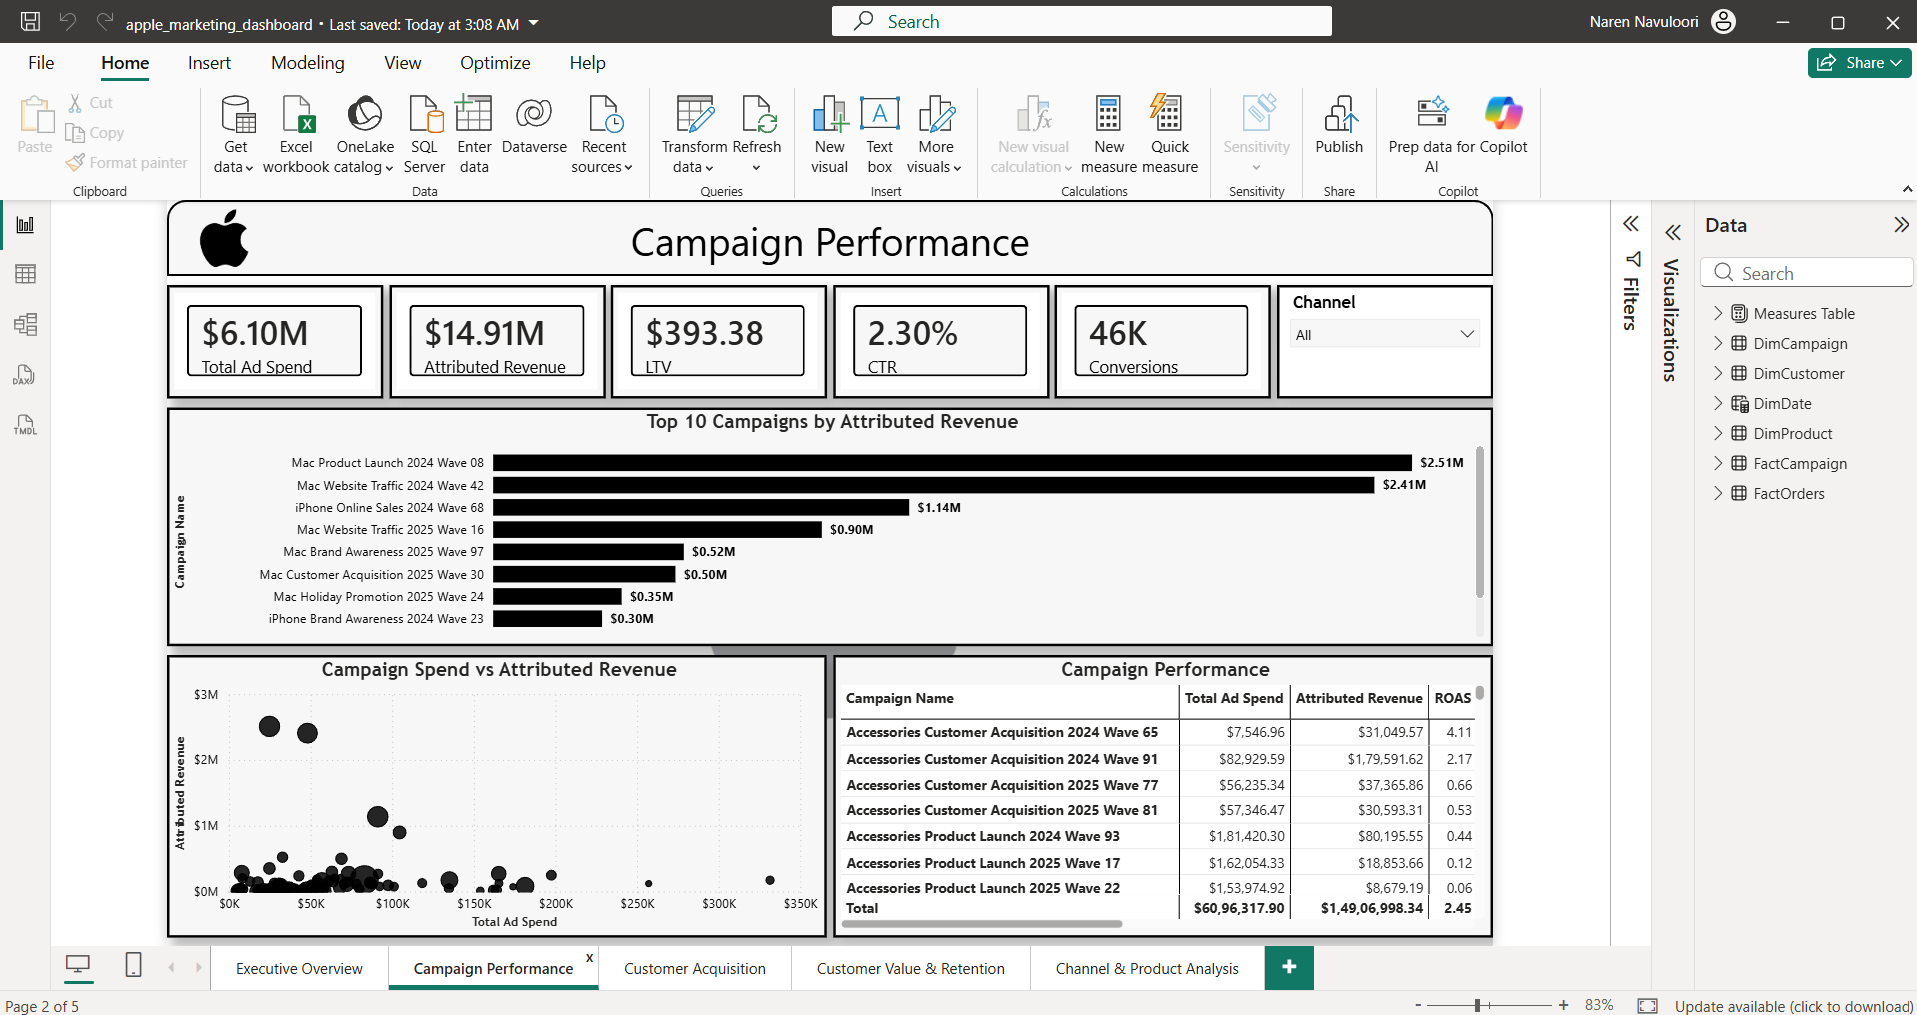

Layout of this report page (visuals, bound fields, positions):
{"tool":"powerbi","page":{"name":"Campaign Performance","canvas":[1280,720],"ordinal":1},"visuals":[{"type":"shape","box":[0,0,1280.3,73.4],"z":0},{"type":"image","box":[18.3,6.1,74.6,61.1],"z":1000},{"type":"cardVisual","fields":{"Data":["Measures Table.Total Ad Spend"]},"box":[0,82,209,109.8],"z":2000},{"type":"cardVisual","fields":{"Data":["Measures Table.Attributed Revenue"]},"box":[214.4,82,209,109.8],"z":3000},{"type":"cardVisual","fields":{"Data":["Measures Table.LTV"]},"box":[428.9,82,208.7,109.8],"z":4000},{"type":"cardVisual","fields":{"Data":["Measures Table.CTR"]},"box":[643,82,208.7,109.8],"z":5000},{"type":"cardVisual","fields":{"Data":["Measures Table.Conversions"]},"box":[857.2,82,208.7,109.8],"z":6000},{"type":"slicer","fields":{"Values":["FactCampaign.channel"]},"box":[1071.3,82,208.7,109.8],"z":7000},{"type":"clusteredBarChart","title":"Top 10 Campaigns by Attributed Revenue","fields":{"Y":["Measures Table.Attributed Revenue"],"Category":["FactCampaign.campaign_name"]},"box":[0,200.3,1280,230.4],"z":8000},{"type":"scatterChart","title":"Campaign Spend vs Attributed Revenue","fields":{"X":["Measures Table.Total Ad Spend"],"Y":["Measures Table.Attributed Revenue"],"Size":["Measures Table.Conversions"],"Category":["FactCampaign.campaign_name"]},"box":[0,439.1,637,272.7],"z":9000},{"type":"pivotTable","title":"Campaign Performance","fields":{"Rows":["FactCampaign.campaign_name"],"Values":["Measures Table.Total Ad Spend","Measures Table.Attributed Revenue","Measures Table.ROAS","Measures Table.CTR","Measures Table.CPC","Measures Table.CPA","Measures Table.Conversions"]},"box":[643,439.1,637,272.7],"z":10000}]}

Visuals, with their boxes on the page's 1280x720 design canvas (x1, y1, x2, y2). These are canvas units, not pixel positions in the 1917x1015 screenshot, which may show the page scaled, cropped or inside an application window:
shape: l=0, t=0, r=1280, b=73
image: l=18, t=6, r=93, b=67
cardVisual - Measures Table.Total Ad Spend: l=0, t=82, r=209, b=192
cardVisual - Measures Table.Attributed Revenue: l=214, t=82, r=423, b=192
cardVisual - Measures Table.LTV: l=429, t=82, r=638, b=192
cardVisual - Measures Table.CTR: l=643, t=82, r=852, b=192
cardVisual - Measures Table.Conversions: l=857, t=82, r=1066, b=192
slicer - FactCampaign.channel: l=1071, t=82, r=1280, b=192
"Top 10 Campaigns by Attributed Revenue" clusteredBarChart: l=0, t=200, r=1280, b=431
"Campaign Spend vs Attributed Revenue" scatterChart: l=0, t=439, r=637, b=712
"Campaign Performance" pivotTable: l=643, t=439, r=1280, b=712
